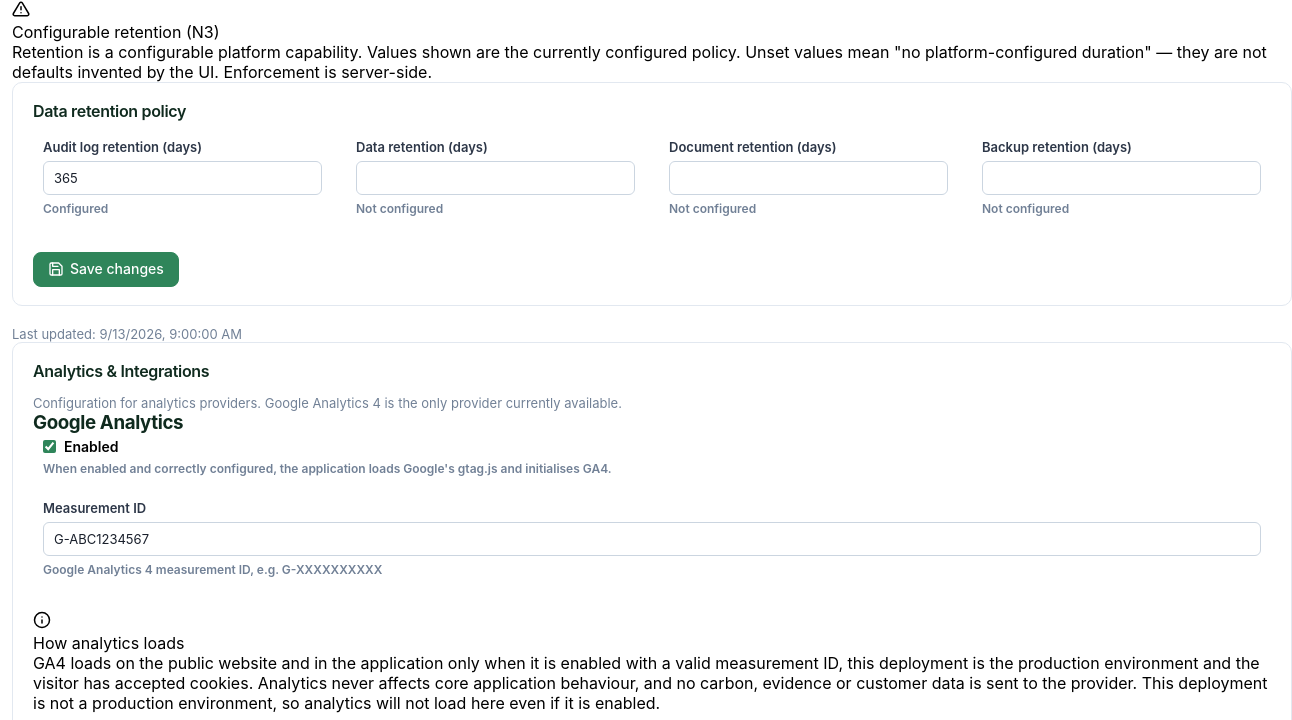
will not submit an enabled analytics configuration with an invalid ID
Replace the text in the field labelled "Measurement ID" with "UA-123456-1" at (652, 539), box top-left (43, 522), bottom-right (1261, 556)
(page scrolled)
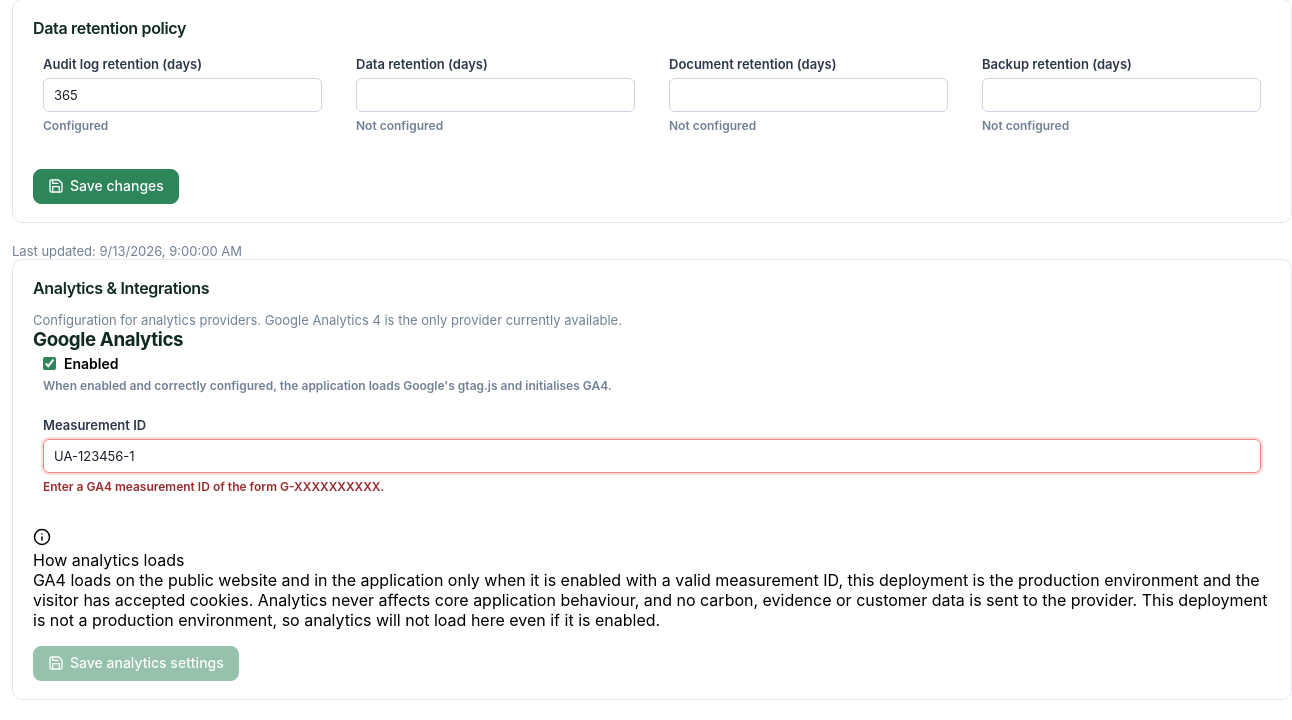
Expected: the text "Enter a GA4 measurement ID of the form G-XXXXXXXXXX." is shown, top-left (43, 479), bottom-right (384, 494)
Expected: the button "Save analytics settings" is disabled, top-left (33, 646), bottom-right (239, 681)
